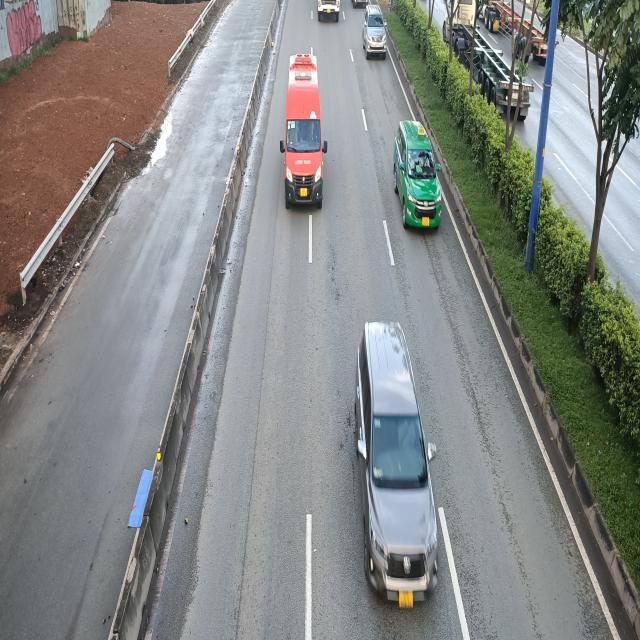car: (353, 317, 439, 599), (396, 123, 443, 235), (362, 5, 387, 60)
van: (280, 54, 328, 208)
